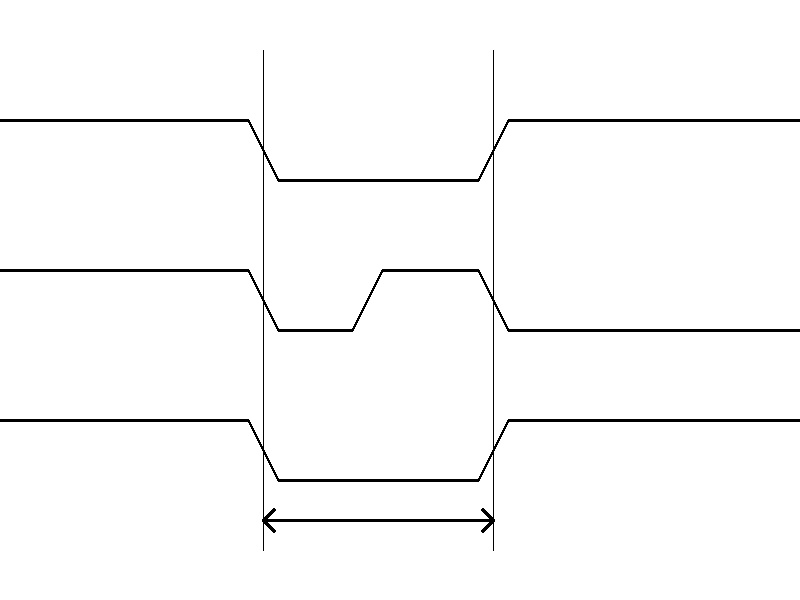double_arrow: (263, 505, 493, 535)
